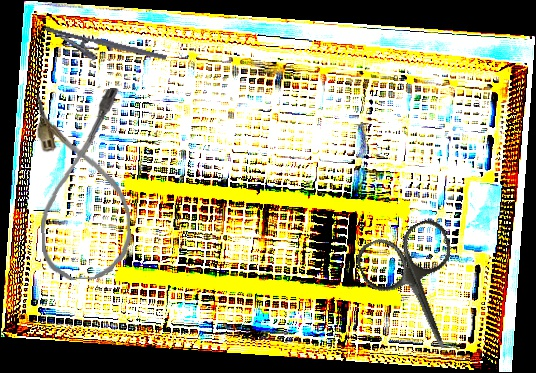Cannula: (34, 87, 133, 282)
Iris Scissors: (351, 215, 486, 366)
Needle Holder: (38, 24, 168, 78)
